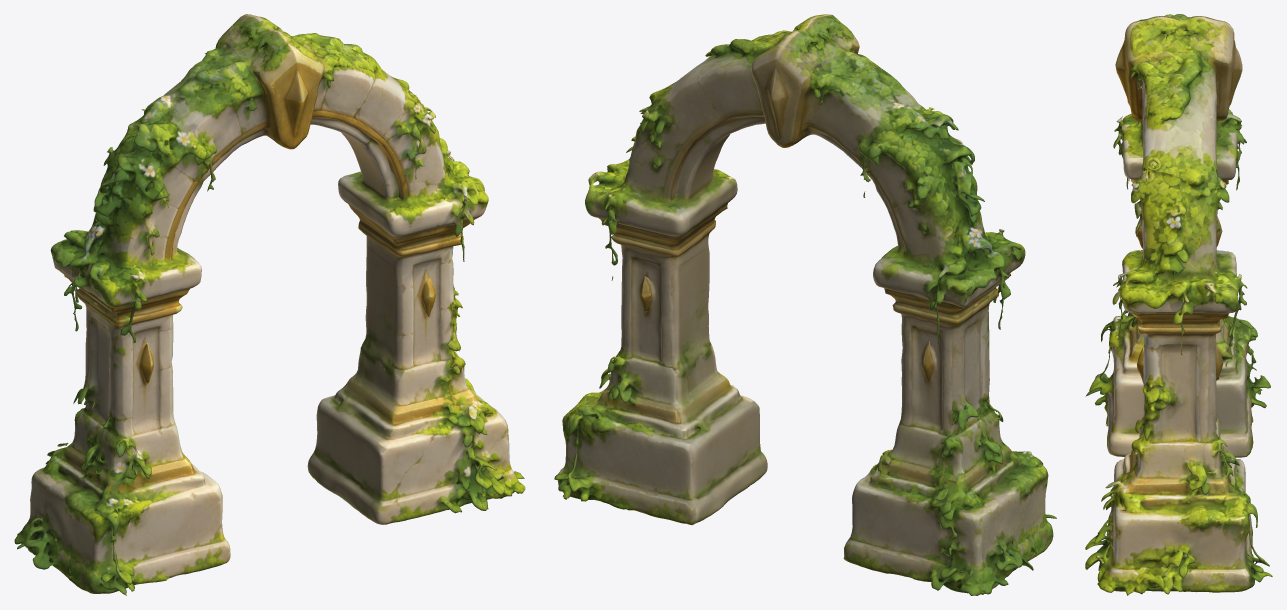
Rendered from arch.glb.
3 views of the same model, side by side, from view 1: azimuth 30°, elevation 25°; view 2: azimuth 150°, elevation 25°; view 3: azimuth 270°, elevation 25° (orthographic). The views are drawn at different scales.
Visible parts, largest first — view 1: tripo_node_c08faf2f; view 2: tripo_node_c08faf2f; view 3: tripo_node_c08faf2f.
Part boxes in pixels (x1,y1,x2,y2): tripo_node_c08faf2f: [14, 14, 525, 595]; tripo_node_c08faf2f: [554, 14, 1056, 595]; tripo_node_c08faf2f: [1085, 14, 1272, 595].
Bounding box in the file's own units: 0.9858 × 1 × 0.3577.
1 material, 1 textured.
